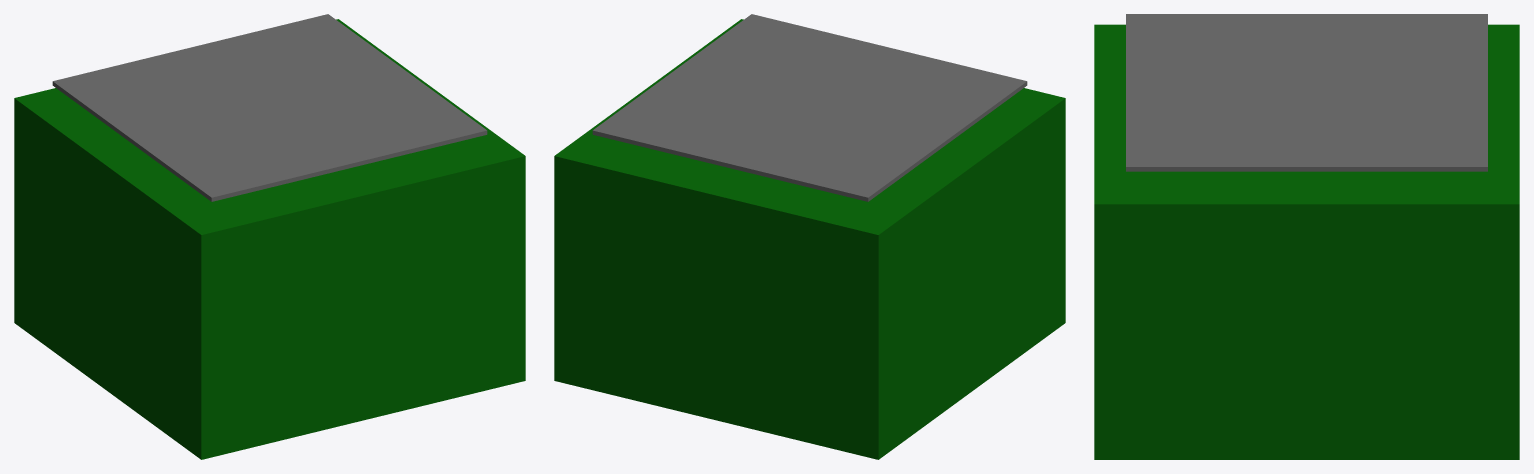
The model's file is HowToPlayInactive.obj.
3 renders of one model, left to right at view 1: azimuth 30°, elevation 25°; view 2: azimuth 150°, elevation 25°; view 3: azimuth 270°, elevation 25°, orthographic. The views are drawn at different scales.
Size of the model in its own units: 8 by 5.8 by 8.
Materials: 1 (1 with a texture image).
